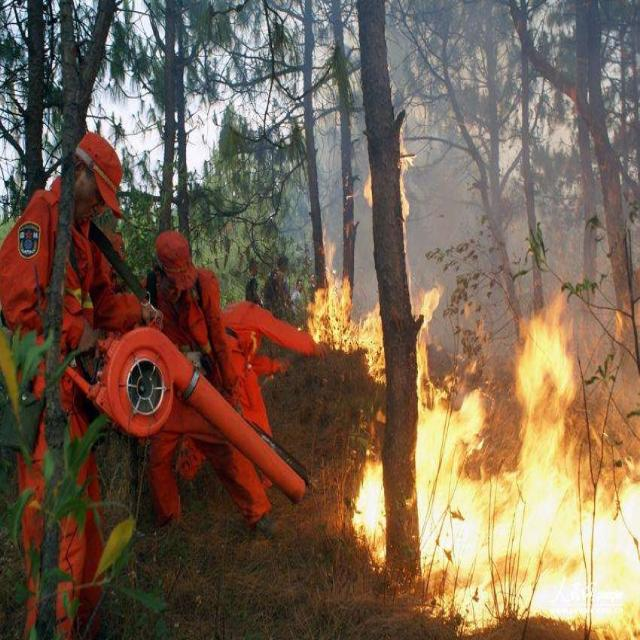fire: (320, 284, 640, 640)
